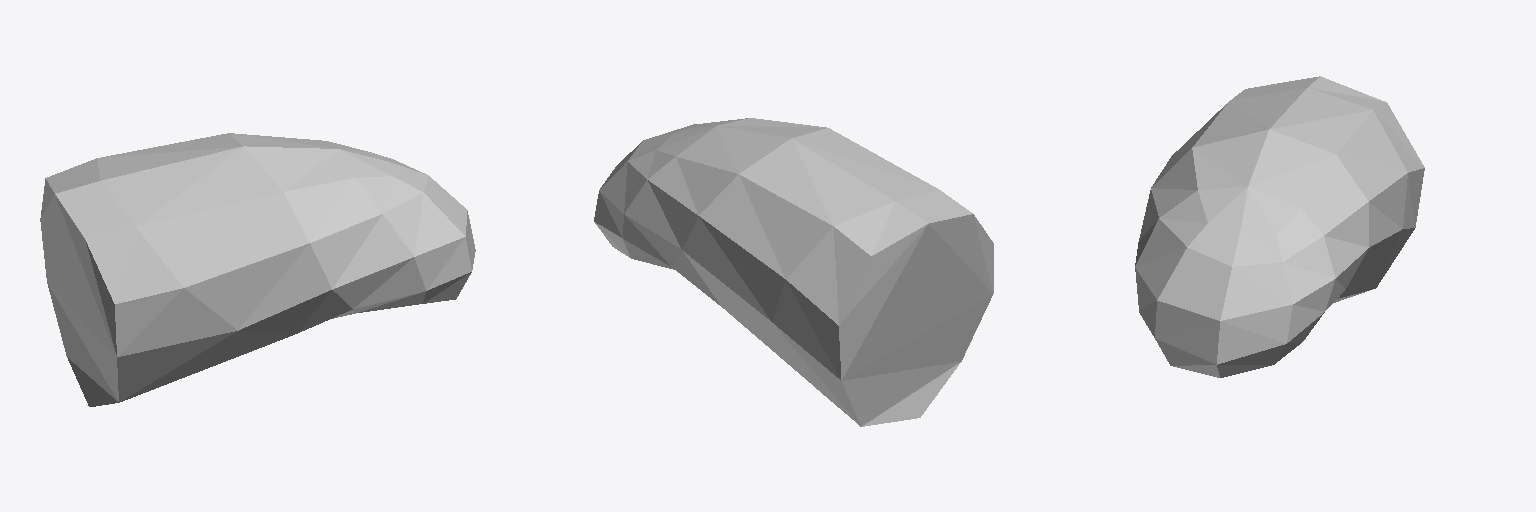
The model's file is thumb3.obj.
The picture shows the model from 3 angles: view 1: azimuth 30°, elevation 25°; view 2: azimuth 150°, elevation 25°; view 3: azimuth 270°, elevation 25°; orthographic projection.
Bounding box in the file's own units: 37.4 × 22.39 × 24.96.